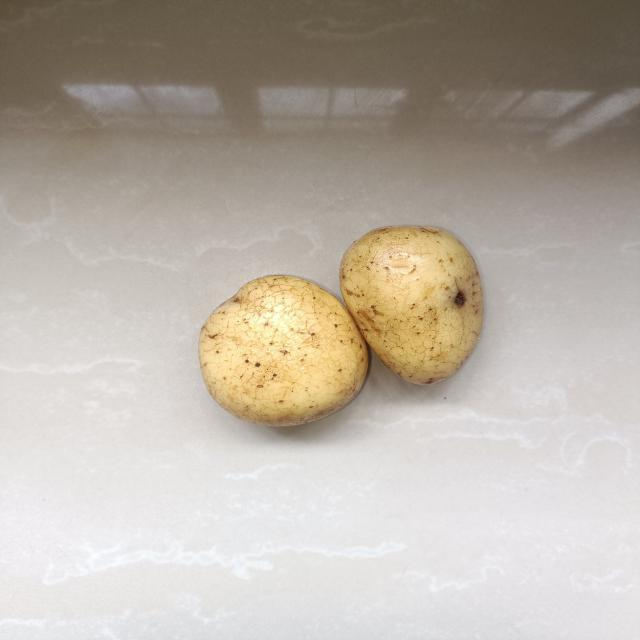potato: (192, 266, 372, 434), (340, 222, 493, 390)
